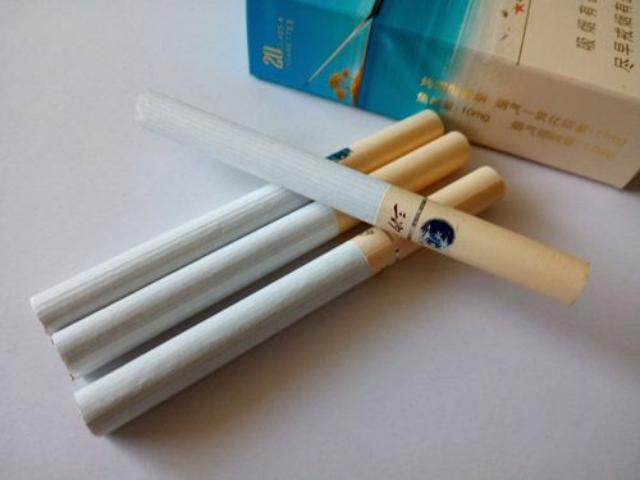Cigarette: (75, 165, 507, 435), (51, 132, 473, 380), (135, 86, 591, 308), (29, 110, 444, 336)
